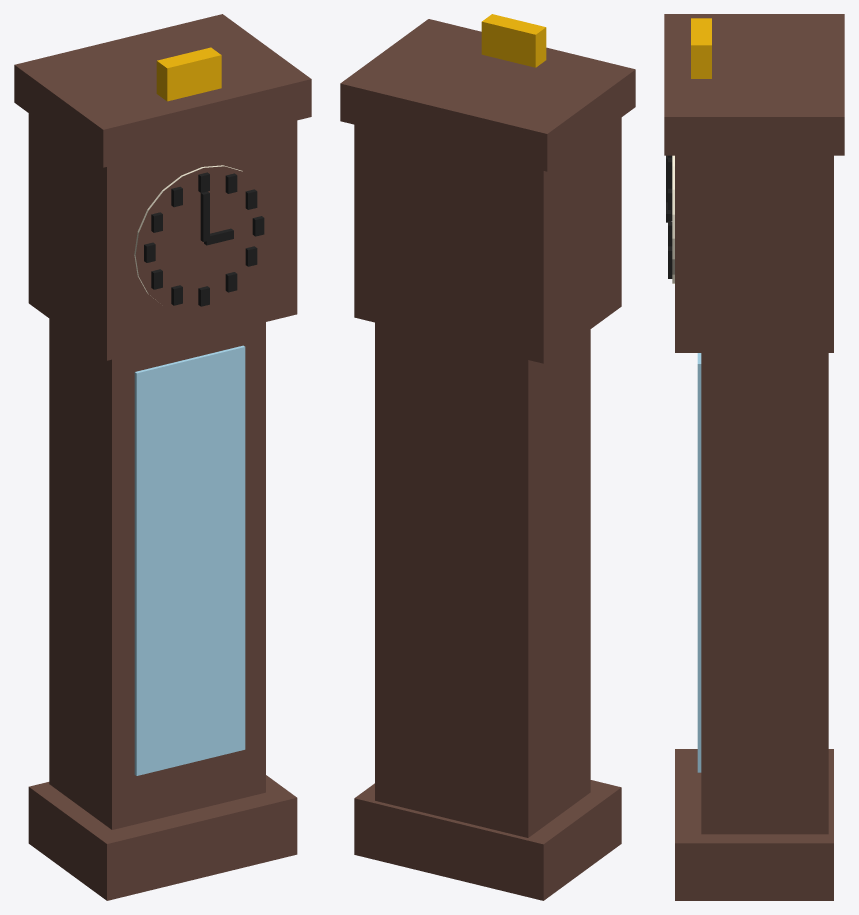
File: pendelur.glb
3 renders of one model, left to right at view 1: azimuth 30°, elevation 25°; view 2: azimuth 150°, elevation 25°; view 3: azimuth 270°, elevation 25°, orthographic.
Visible parts, largest first — view 1: pendelur; view 2: pendelur; view 3: pendelur.
Boxes of the visible parts, x1=… form: pendelur: x1=14, y1=14, x2=311, y2=900; pendelur: x1=340, y1=14, x2=635, y2=900; pendelur: x1=664, y1=14, x2=844, y2=900.
Size of the model in its own units: 0.4599 by 1.71 by 0.34.
